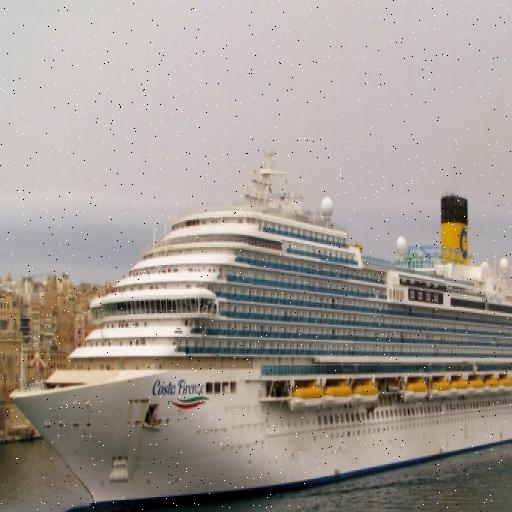cruises: (12, 142, 512, 512)
